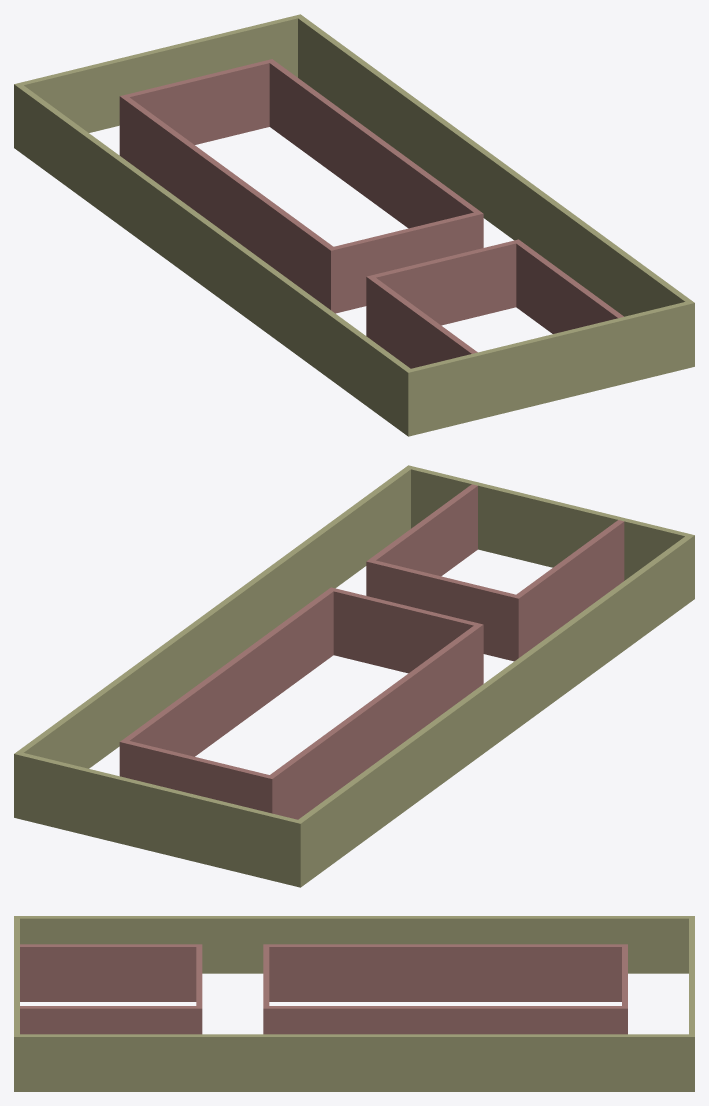
The model's file is corridor_complete_walls.dae.
3 renders of one model, top to bottom at view 1: azimuth 30°, elevation 25°; view 2: azimuth 150°, elevation 25°; view 3: azimuth 270°, elevation 25°, orthographic. The views are drawn at different scales.
Visible parts, largest first — view 1: node0, node1, node2; view 2: node0, node1, node2; view 3: node0, node1, node2.
Part boxes in pixels (x1,y1,x2,y2): node0: (14,14,694,436); node1: (119,59,483,313); node2: (366,239,623,368); node0: (14,465,694,887); node1: (119,587,483,819); node2: (366,484,624,661); node0: (14,916,694,1091); node1: (263,944,627,1034); node2: (20,944,202,1034).
Size of the model in its own units: 0.094 by 0.224 by 0.02.
